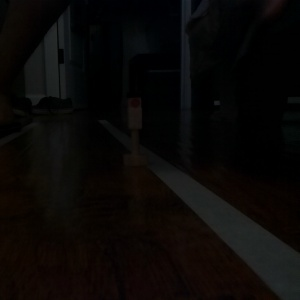traffic light red: (120, 93, 149, 166)
